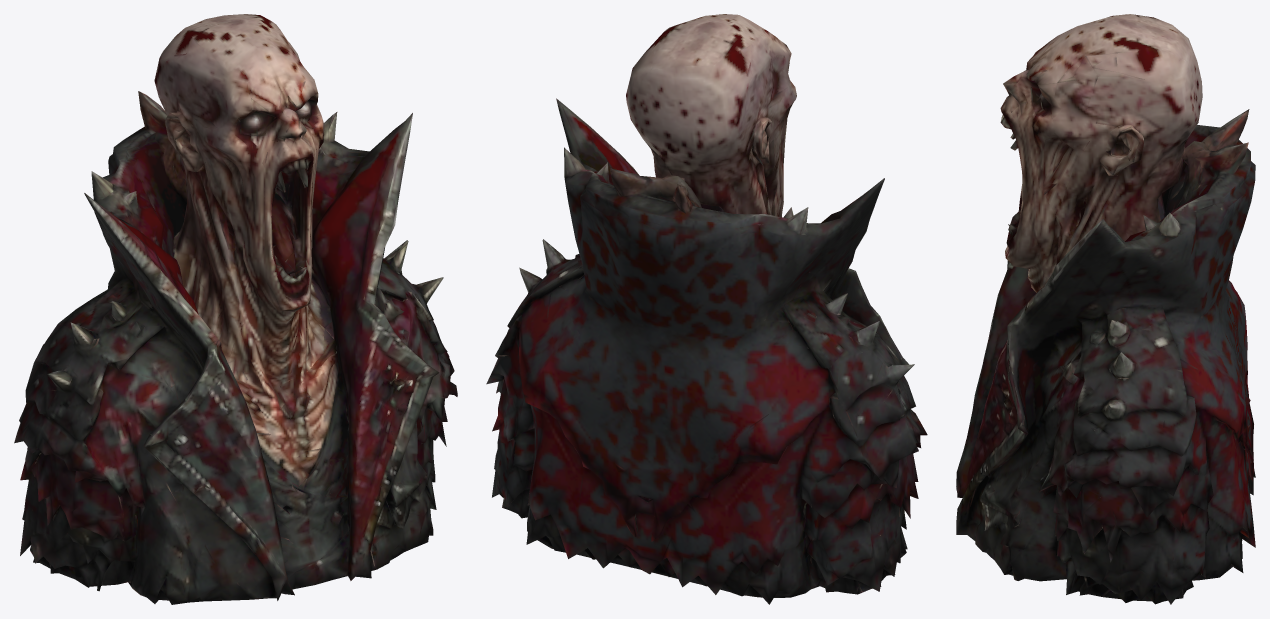
The model's file is screamer.glb.
3 renders of one model, left to right at view 1: azimuth 30°, elevation 25°; view 2: azimuth 150°, elevation 25°; view 3: azimuth 270°, elevation 25°, orthographic. The views are drawn at different scales.
Visible parts, largest first — view 1: Mesh_0; view 2: Mesh_0; view 3: Mesh_0.
Part boxes in pixels (x1,y1,x2,y2): Mesh_0: [14, 14, 457, 604]; Mesh_0: [486, 14, 927, 604]; Mesh_0: [956, 14, 1255, 604].
Size of the model in its own units: 1.64 by 1.92 by 1.05.
Materials: 1 (1 with a texture image).
